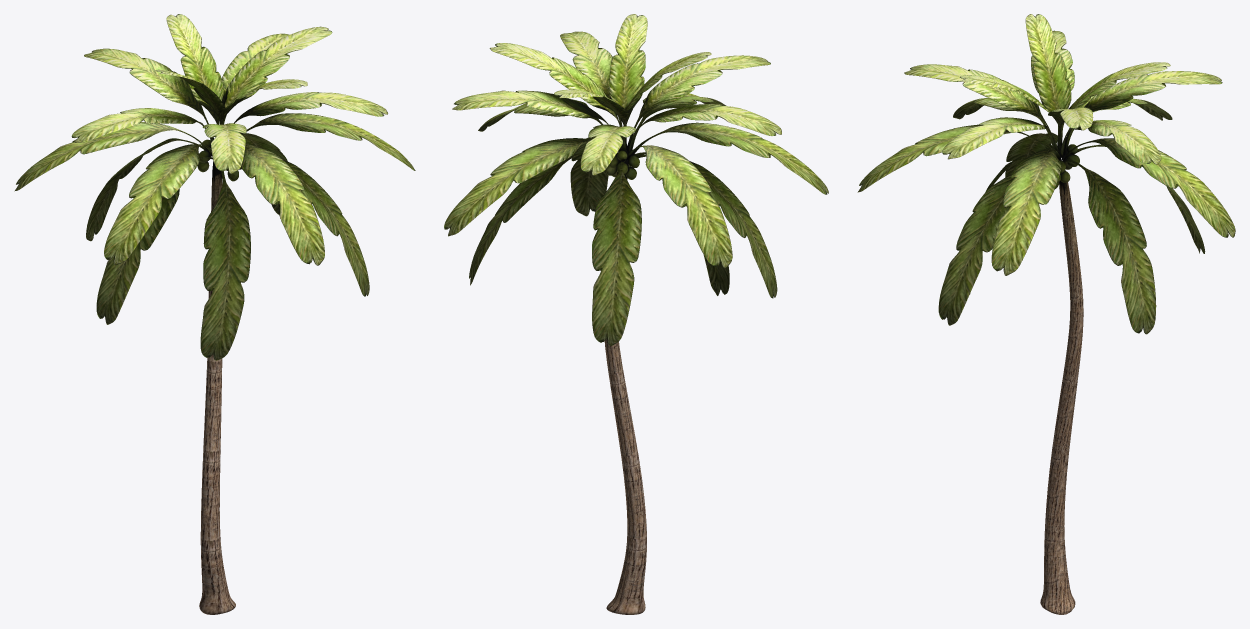
Rendered from palmtree.glb.
3 views of the same model, side by side, from view 1: azimuth 30°, elevation 25°; view 2: azimuth 150°, elevation 25°; view 3: azimuth 270°, elevation 25° (orthographic).
Parts seen in each view (by area): view 1: 10446_Palm_Tree_v1_max2010_iteration-2.080; view 2: 10446_Palm_Tree_v1_max2010_iteration-2.080; view 3: 10446_Palm_Tree_v1_max2010_iteration-2.080.
Boxes of the visible parts, bbox=[...] form: 10446_Palm_Tree_v1_max2010_iteration-2.080: bbox=[14, 14, 415, 614]; 10446_Palm_Tree_v1_max2010_iteration-2.080: bbox=[444, 14, 828, 614]; 10446_Palm_Tree_v1_max2010_iteration-2.080: bbox=[857, 14, 1235, 614].
Bounding box in the file's own units: 5.03 × 8.27 × 5.07.
Materials: 1 (1 with a texture image).
